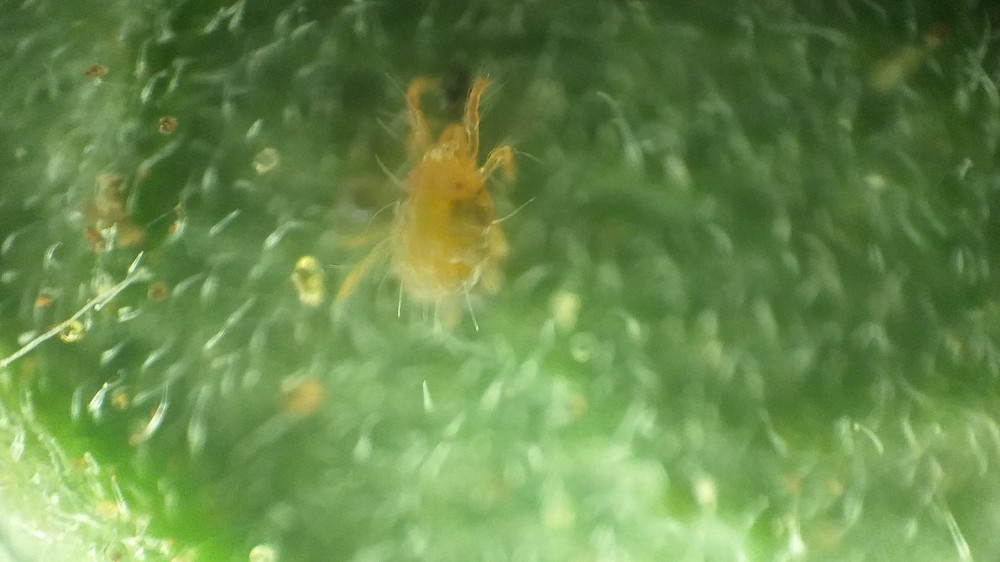Aracnido Rojo: (313, 68, 578, 347)
